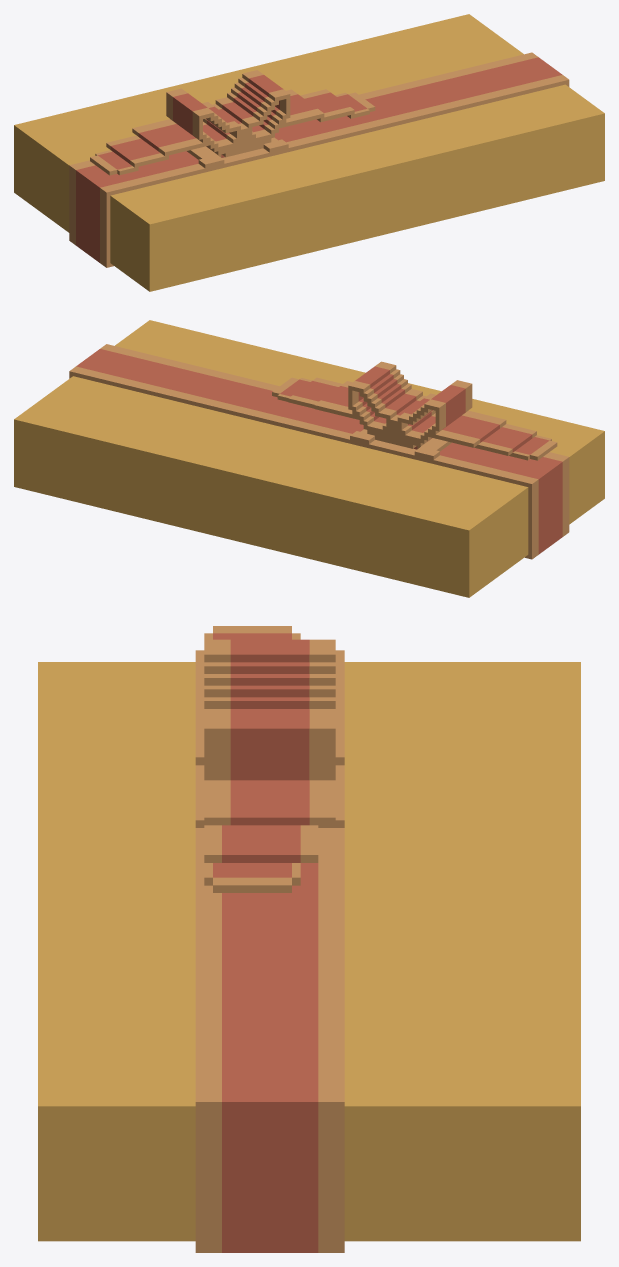
The model's file is chocolate box cap.fbx.
The picture shows the model from 3 angles, top to bottom: view 1: azimuth 30°, elevation 25°; view 2: azimuth 150°, elevation 25°; view 3: azimuth 270°, elevation 25°; orthographic projection. The views are drawn at different scales.
Visible parts, largest first — view 1: cap; view 2: cap; view 3: cap.
Part boxes in pixels (<box>): cap: <box>14,14,604,291</box>; cap: <box>14,320,604,597</box>; cap: <box>38,626,580,1252</box>.
Bounding box in the file's own units: 122 × 32 × 62.
Materials: 1 (1 with a texture image).
